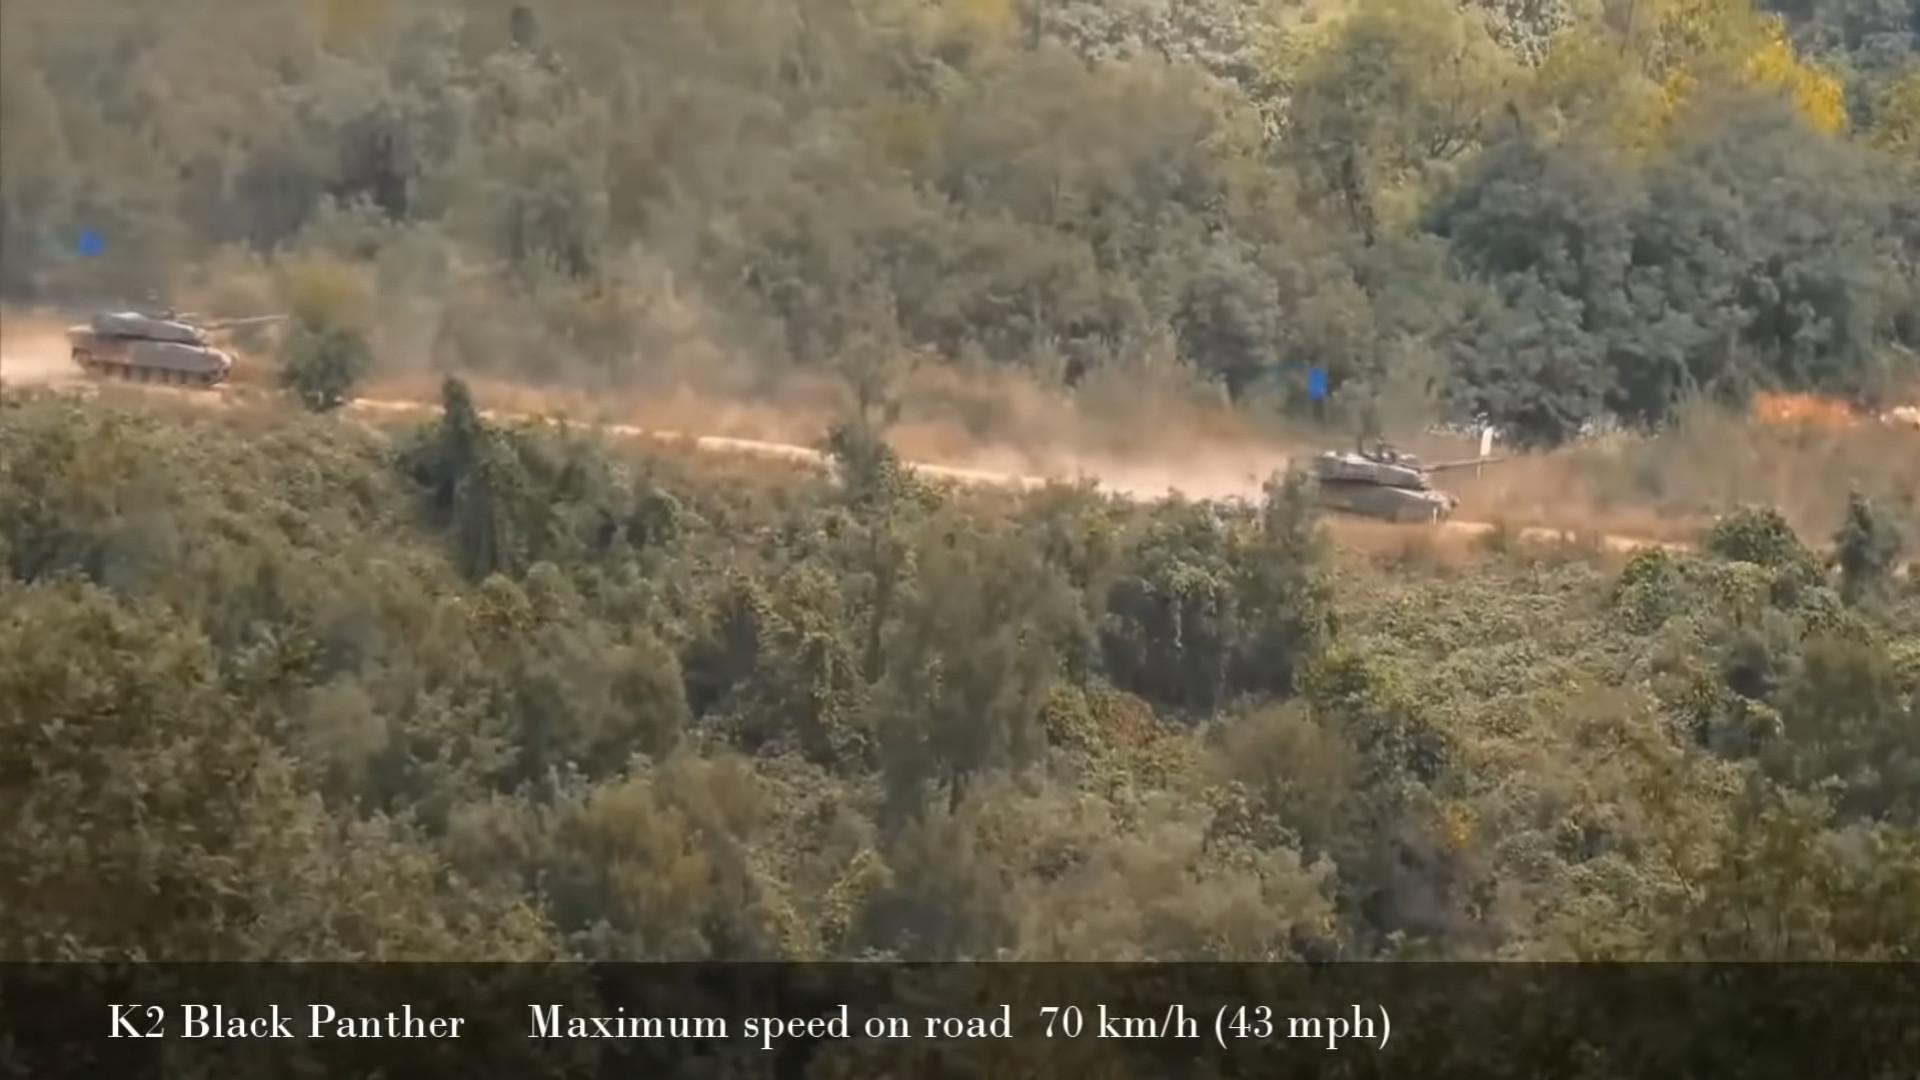tank: (69, 307, 286, 388), (1295, 451, 1505, 521)
